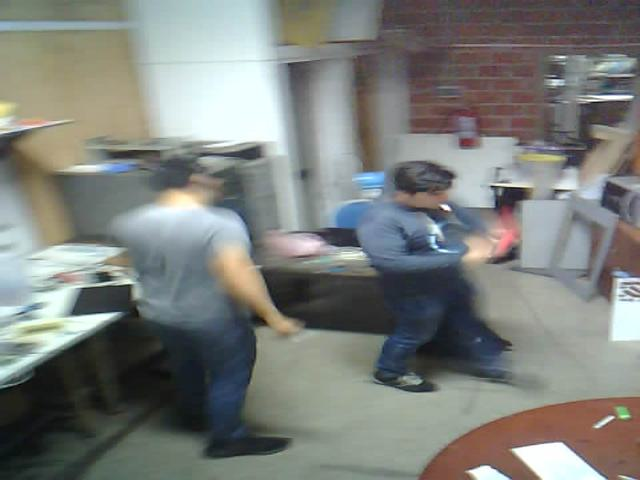person: (107, 125, 312, 473), (344, 127, 556, 406)
